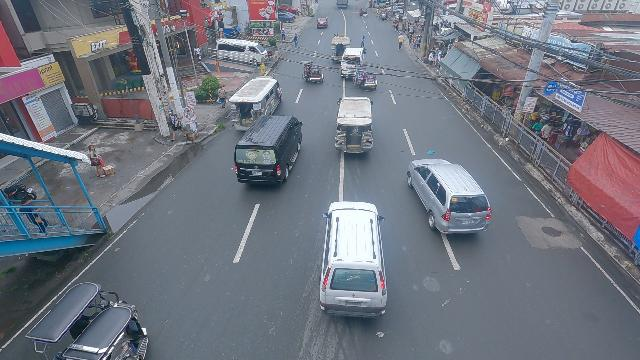car: (317, 200, 390, 320), (406, 157, 493, 235), (317, 17, 328, 29)
jeepney: (230, 75, 283, 132), (334, 94, 375, 156), (330, 35, 350, 62)
van: (232, 114, 304, 187), (214, 38, 266, 67), (340, 47, 365, 79)
